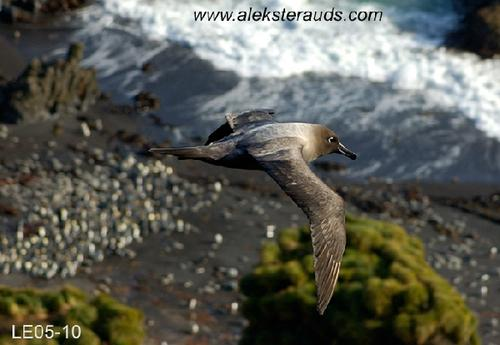003.Sooty_Albatross: (146, 108, 359, 317)
